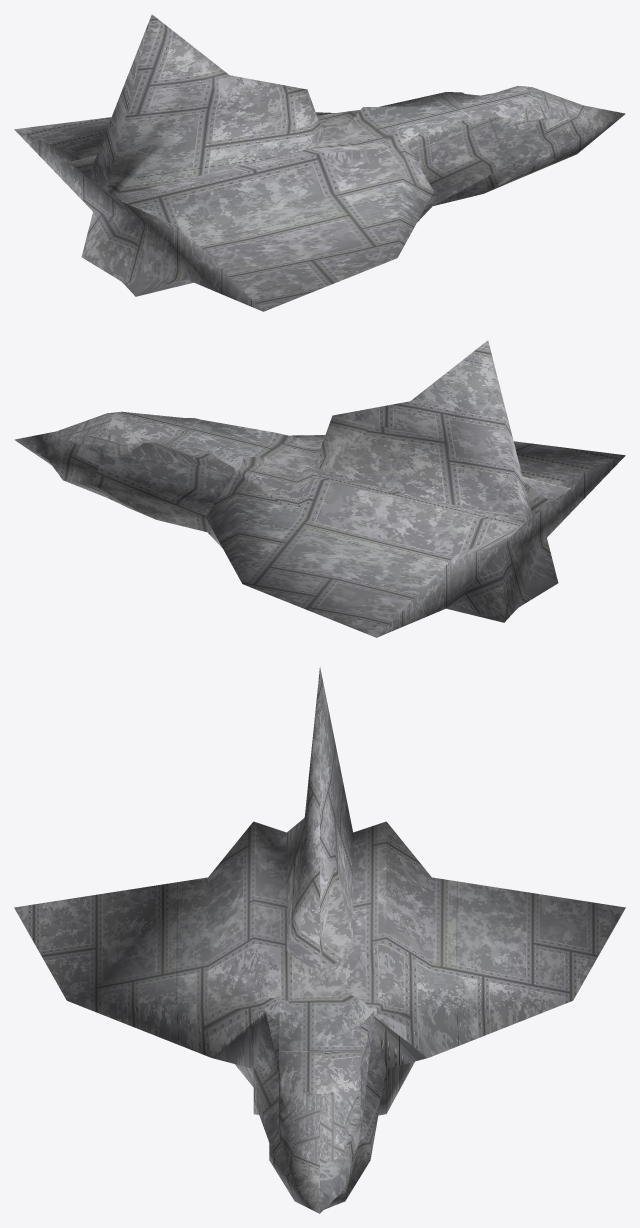
Rendered from spaceship.obj.
3 views of the same model, one above another, from view 1: azimuth 30°, elevation 25°; view 2: azimuth 150°, elevation 25°; view 3: azimuth 270°, elevation 25° (orthographic). The views are drawn at different scales.
Visible parts, largest first — view 1: Cube_Cube.002; view 2: Cube_Cube.002; view 3: Cube_Cube.002.
Part boxes in pixels (left/top/right/bottom): Cube_Cube.002: left=14, top=14, right=625, bottom=311; Cube_Cube.002: left=14, top=340, right=625, bottom=637; Cube_Cube.002: left=14, top=667, right=625, bottom=1213.
Size of the model in its own units: 14.87 by 6.97 by 12.11.
